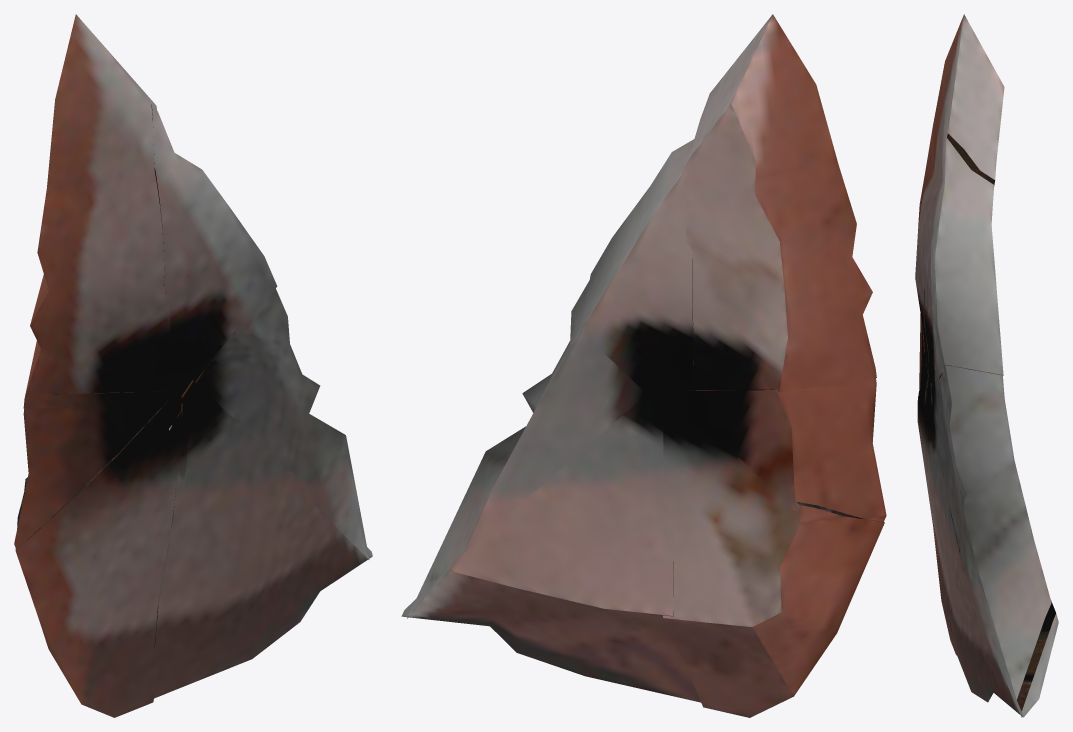
Rendered from Ceramic020.gltf.
The picture shows the model from 3 angles, left to right: view 1: azimuth 30°, elevation 25°; view 2: azimuth 150°, elevation 25°; view 3: azimuth 270°, elevation 25°; orthographic projection. The views are drawn at different scales.
Visible parts, largest first — view 1: Ceramic020_005, Ceramic020_002, Ceramic020_004, Ceramic020_001, Ceramic020, Ceramic020_003; view 2: Ceramic020_005, Ceramic020_002, Ceramic020_004, Ceramic020_001, Ceramic020_003, Ceramic020; view 3: Ceramic020, Ceramic020_001, Ceramic020_005, Ceramic020_002, Ceramic020_004, Ceramic020_003.
Part boxes in pixels (box(x1,y1,x2,y2)): Ceramic020_005: box(23, 14, 170, 408); Ceramic020_002: box(154, 380, 372, 698); Ceramic020_004: box(15, 400, 190, 717); Ceramic020_001: box(151, 104, 277, 447); Ceramic020: box(195, 288, 369, 559); Ceramic020_003: box(14, 390, 170, 549); Ceramic020_005: box(682, 14, 876, 392); Ceramic020_002: box(401, 401, 700, 702); Ceramic020_004: box(662, 400, 884, 717); Ceramic020_001: box(581, 139, 694, 429); Ceramic020_003: box(685, 364, 886, 521); Ceramic020: box(407, 280, 651, 618); Ceramic020: box(931, 365, 1051, 717); Ceramic020_001: box(923, 128, 1003, 417); Ceramic020_005: box(915, 14, 1004, 372); Ceramic020_002: box(926, 383, 1058, 717); Ceramic020_004: box(917, 381, 956, 655); Ceramic020_003: box(919, 313, 928, 390).
Size of the model in its own units: 0.0872 by 0.1407 by 0.0299.
1 material, 1 textured.
